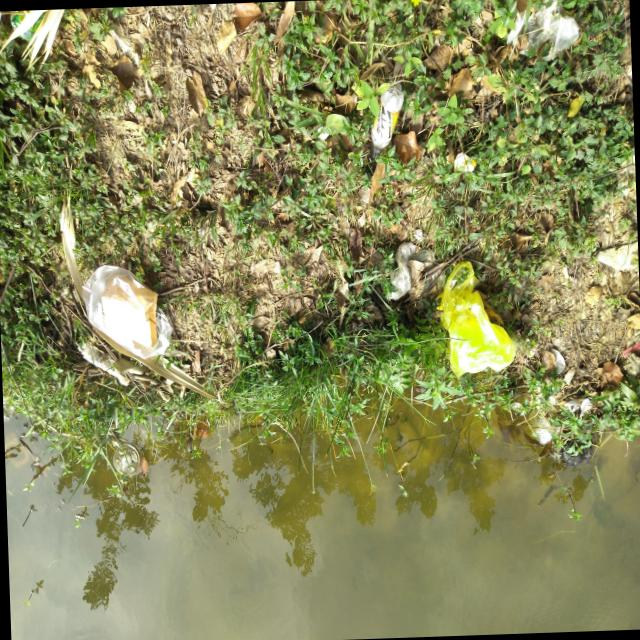less trash: (440, 263, 515, 375), (84, 265, 166, 356)
